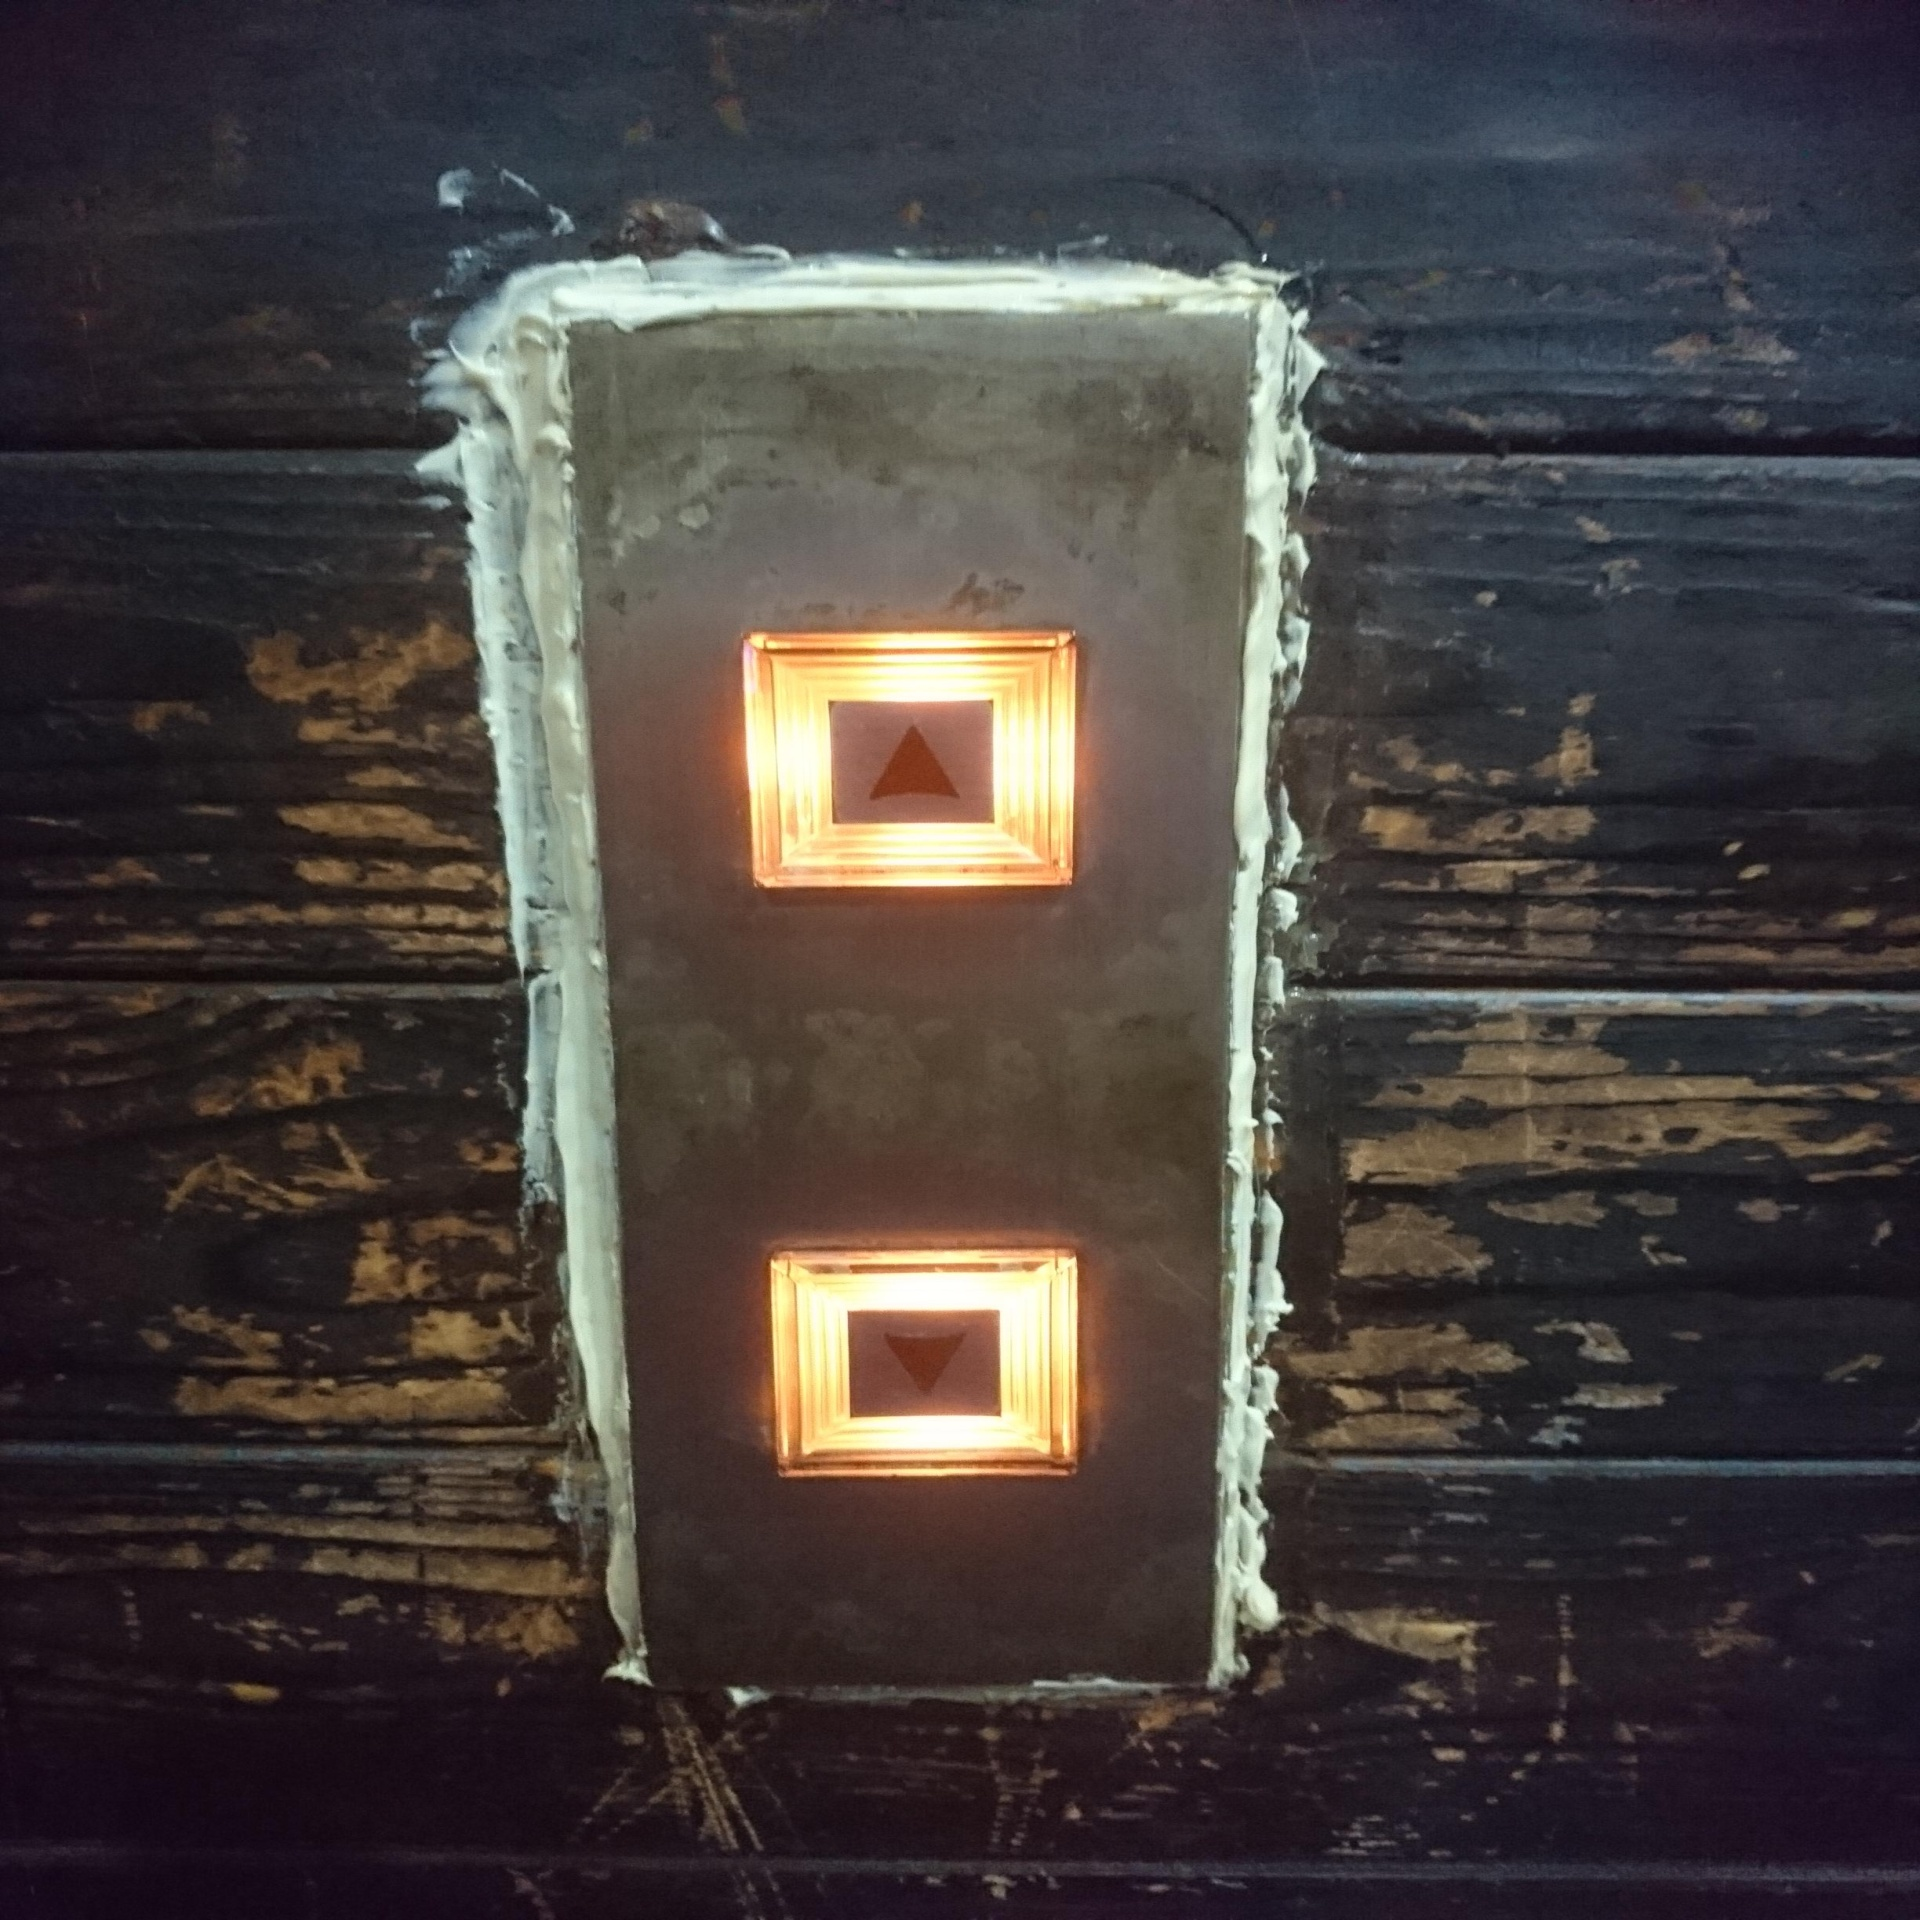down: (754, 1234, 1088, 1486)
up: (731, 624, 1092, 890)
